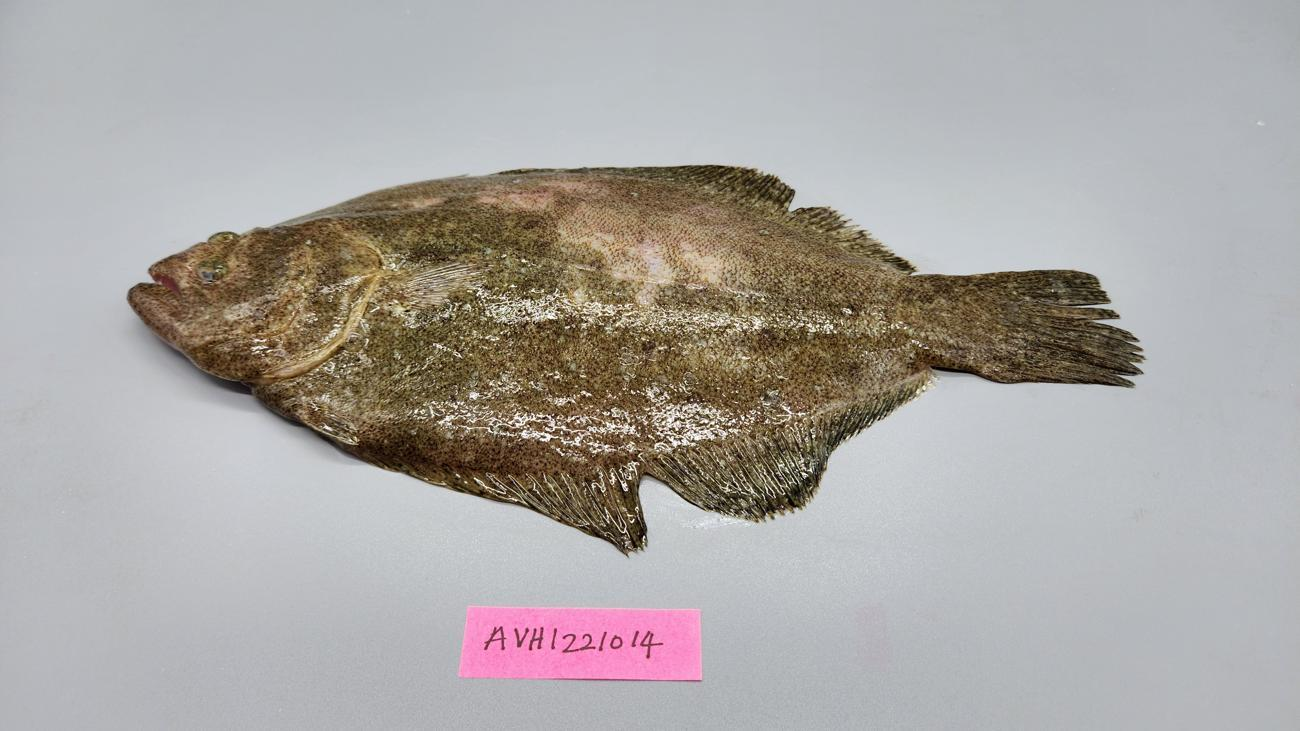VIDYH: (552, 182, 790, 287), (360, 401, 633, 475), (439, 176, 606, 222), (762, 371, 831, 421)
VIDYU: (553, 200, 763, 313), (443, 178, 601, 221), (400, 193, 451, 211)
VIOUY: (125, 165, 1139, 555)
